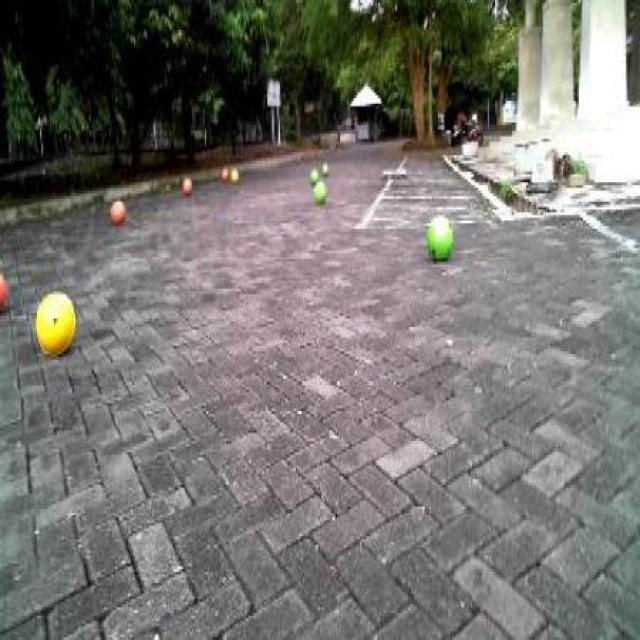buoy: (33, 278, 81, 368), (424, 206, 456, 265), (0, 257, 11, 319), (110, 196, 128, 226)
